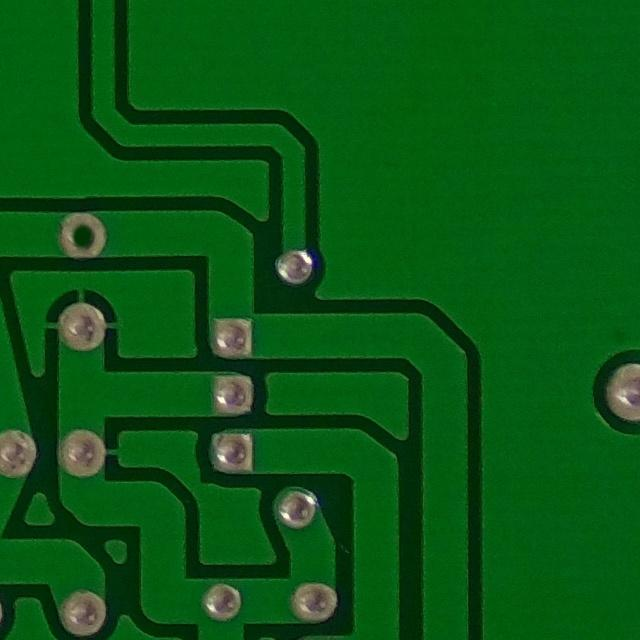missing_hole: (46, 205, 117, 262)
